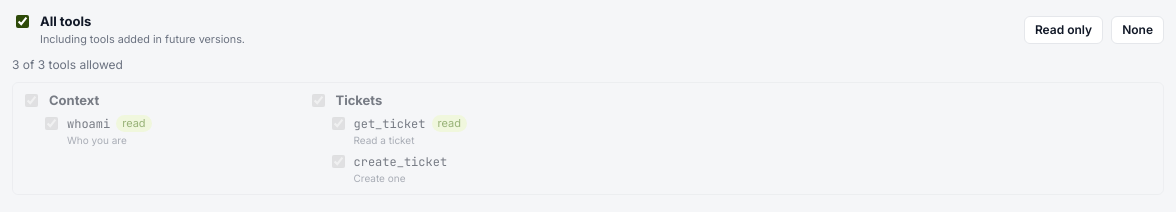
McpToolPicker › starts with every tool and narrows to read only
Expected: the checkbox labelled "All tools Including tools added in future versions." is checked, [16, 15, 29, 28]
Click the button "Read only" at point(1064, 30), box [1024, 16, 1103, 44]
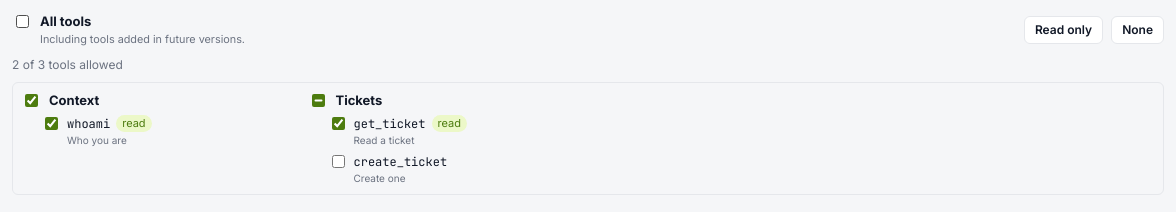
Expected: the checkbox labelled "All tools Including tools added in future versions." is not checked, [16, 15, 29, 28]
Expected: the checkbox labelled "create_ticket" is not checked, [332, 155, 344, 168]
Expected: the text "2 of 3 tools allowed" is shown, [12, 57, 123, 72]
